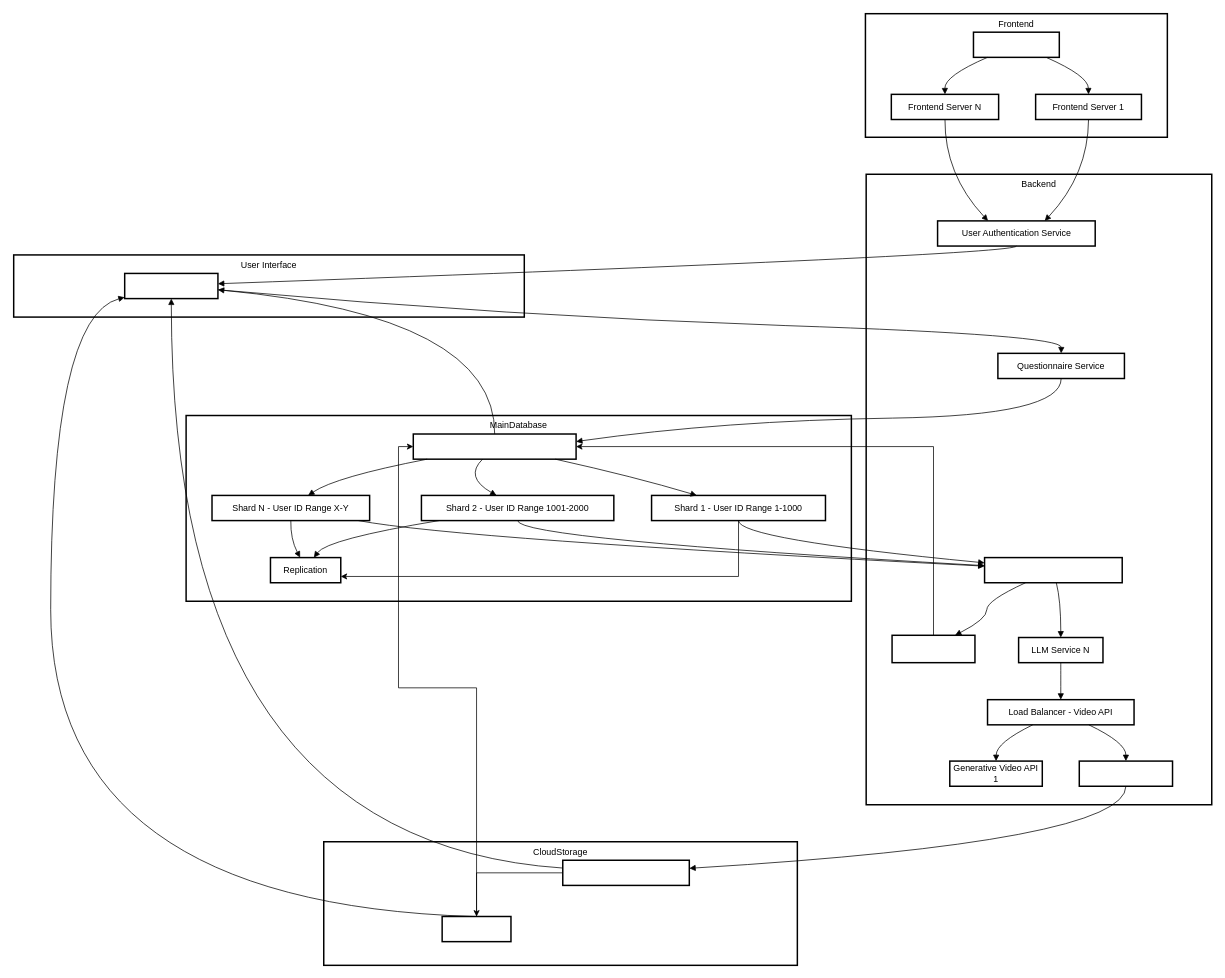
Some shapes in this 1225 by 978 pixel diagram are drawn without their labels. The shapes that lost their labels are listed below. From the top down, each one's centre as x and y in pixels, then its label:
the point at 1016,44: Load Balancer
the point at 171,285: User Dashboard
the point at 494,446: Sharded Database by User ID
the point at 1053,569: Load Balancer - LLM API
the point at 933,648: LLM Service 1
the point at 1125,773: Generative Video API N
the point at 626,872: Cloud Storage Service
the point at 476,928: Video Files
